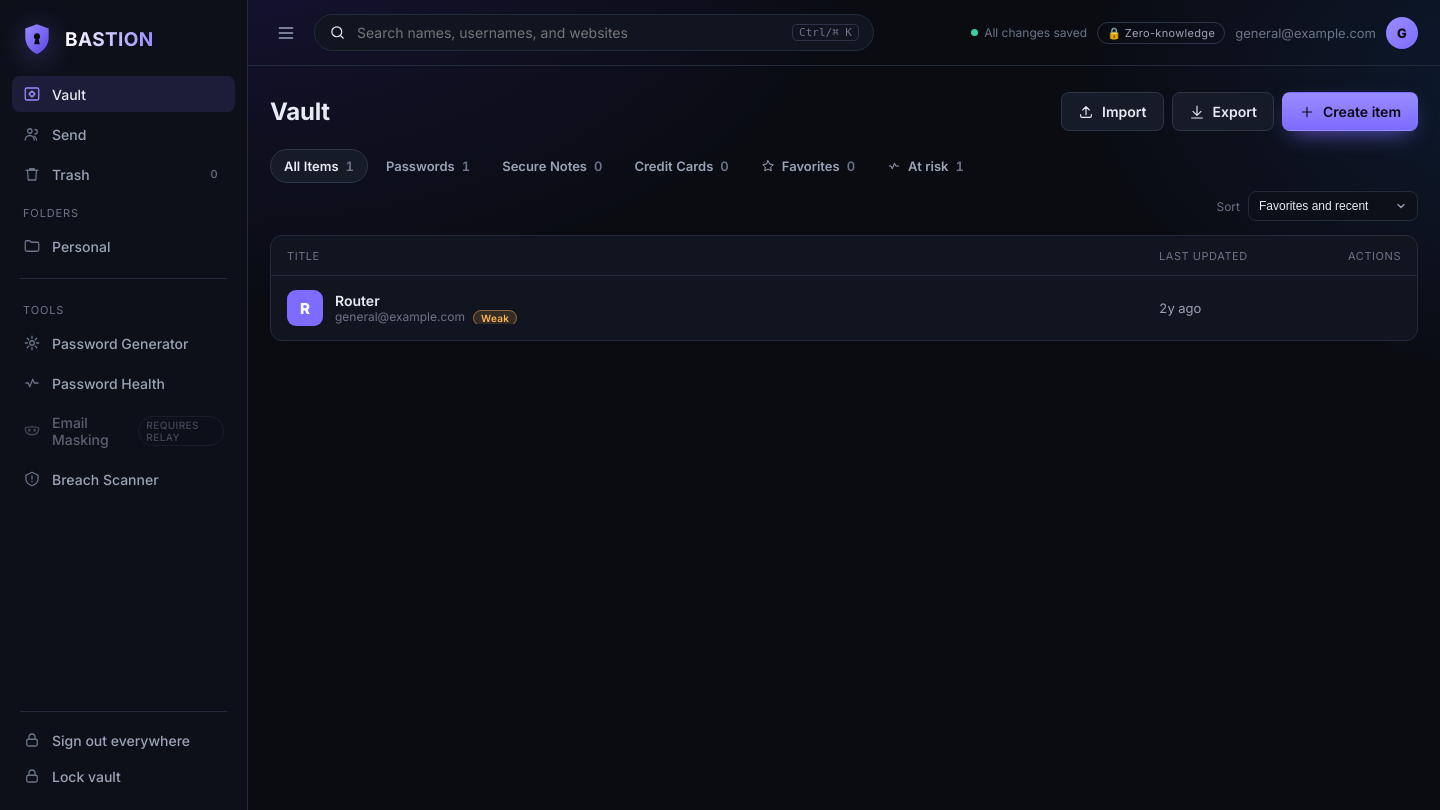
Test: Vault dashboard accessibility › warns in the item detail when the saved website is cleartext HTTP
Click the button with aria-label "Open Router": (305, 308) left=287, top=276, right=1299, bottom=340
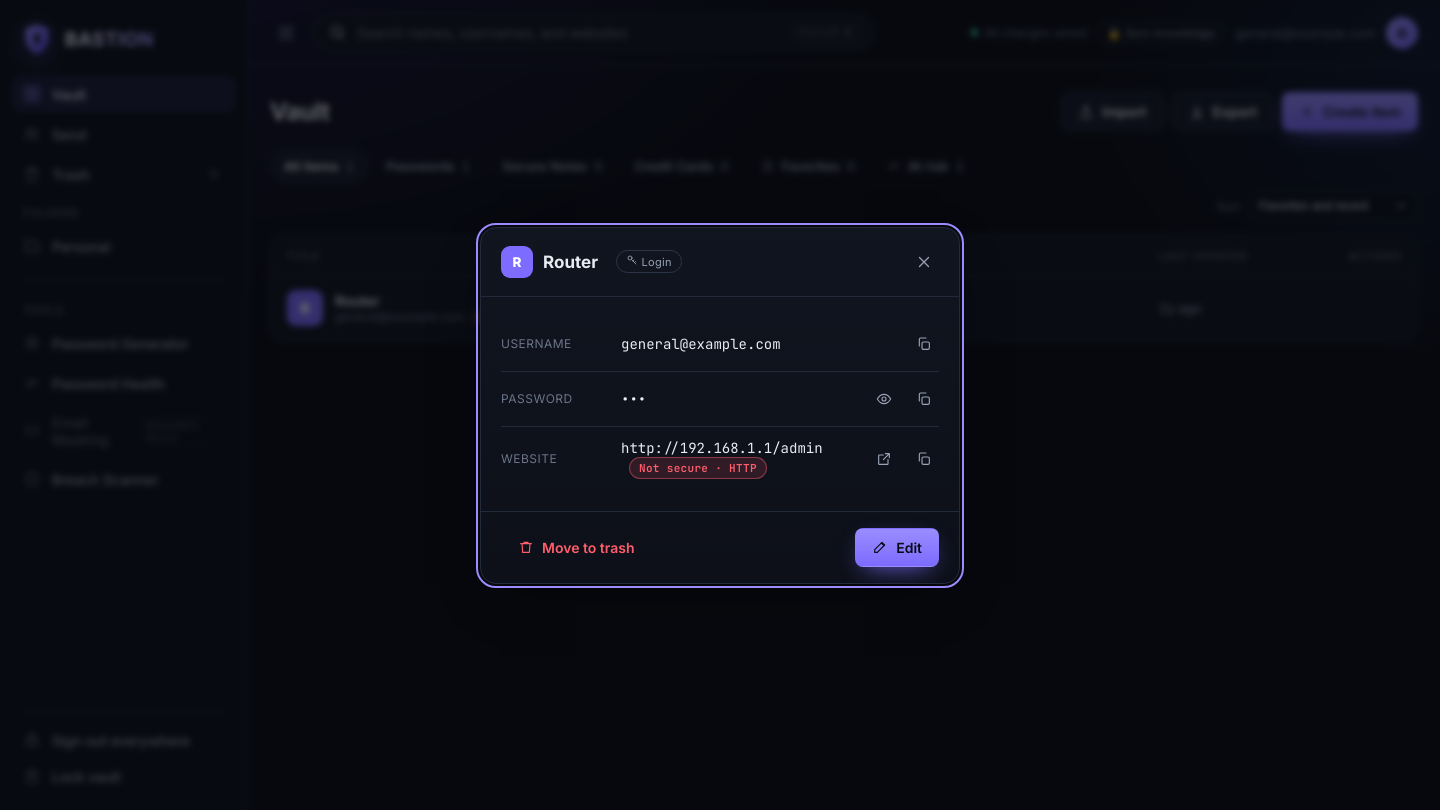
Result: the text "Not secure · HTTP" is shown at left=629, top=456, right=767, bottom=478
